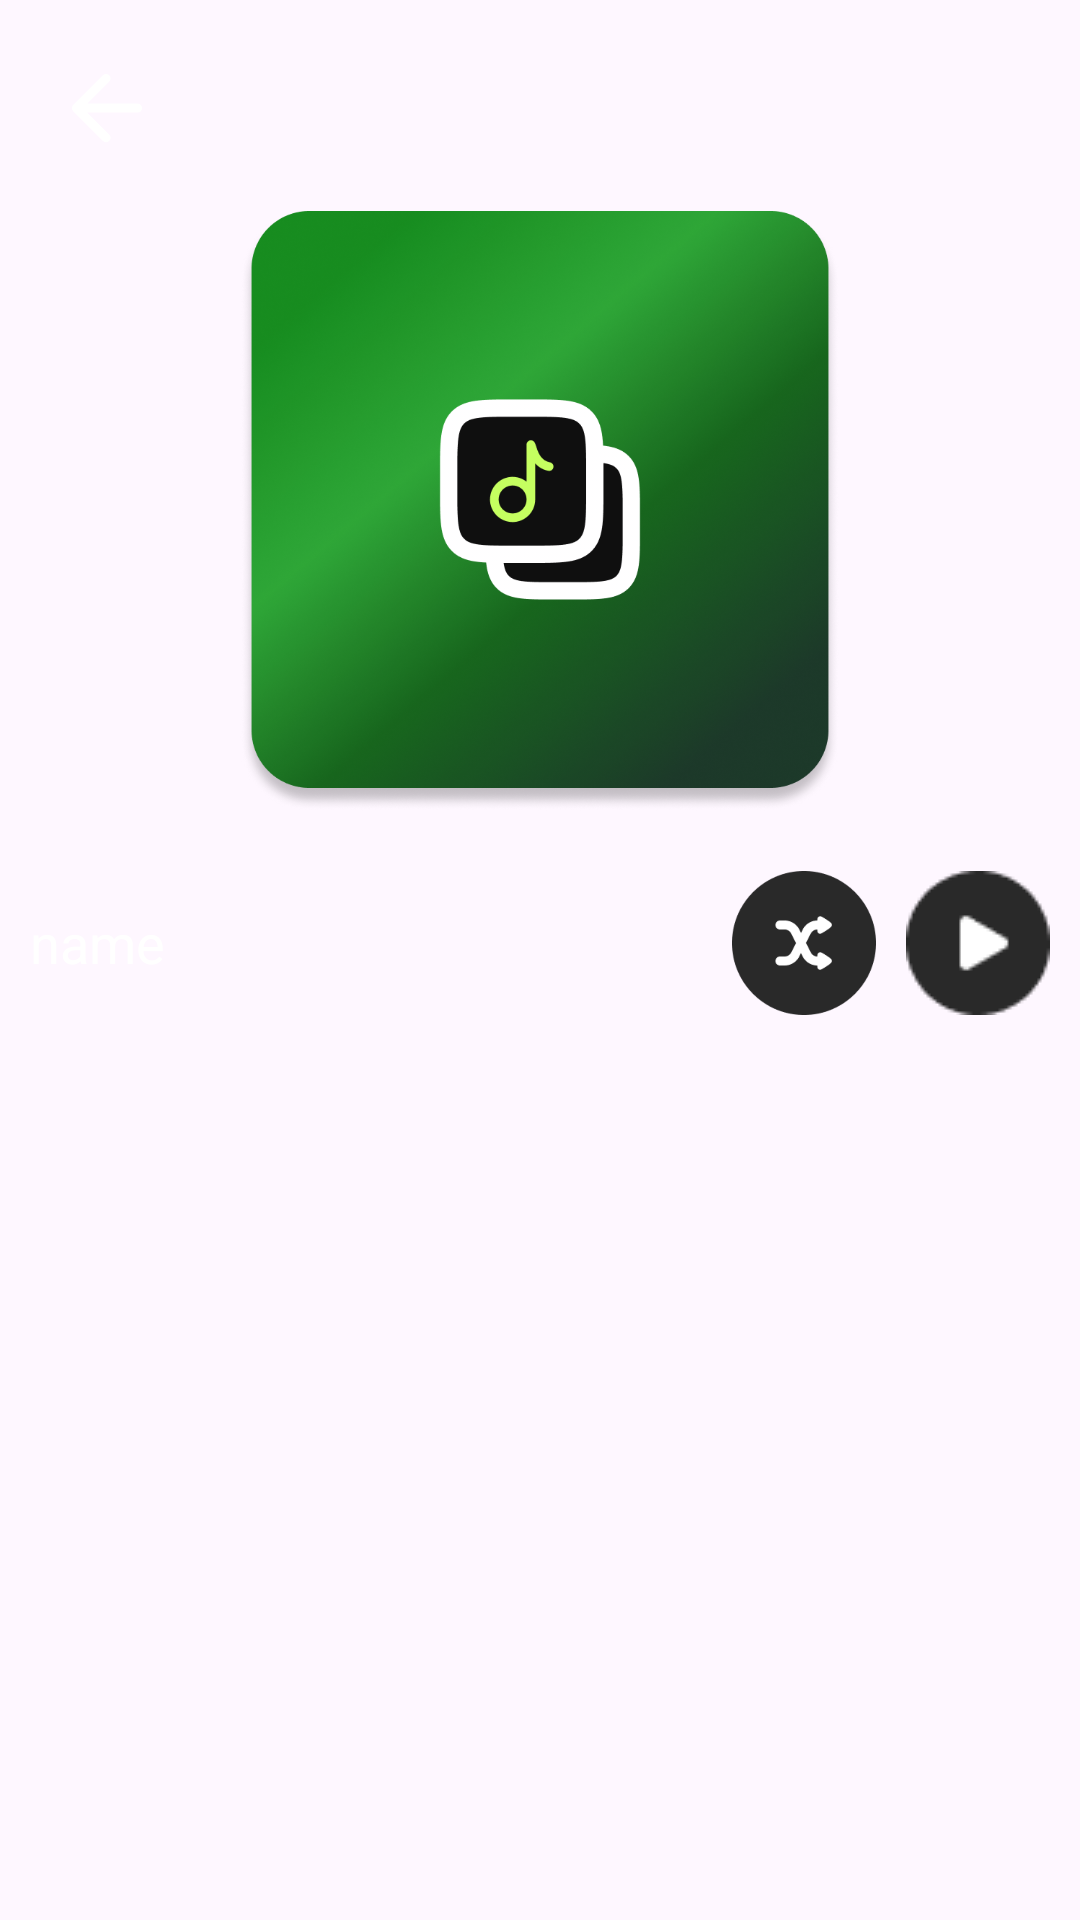

Screen size 1080 x 1920. Icon name, then its center in pixels as (x,y):
play: (978,943)
random: (804,943)
